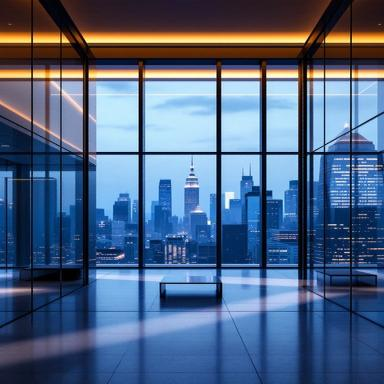glass_panel: (145, 156, 216, 265), (327, 131, 383, 266), (0, 81, 30, 268), (145, 156, 194, 264), (90, 155, 138, 263), (145, 87, 216, 150), (220, 156, 261, 265), (267, 156, 299, 264), (90, 82, 138, 152), (221, 85, 261, 150), (61, 156, 82, 265), (266, 82, 299, 150), (32, 176, 56, 266), (63, 79, 83, 155), (326, 90, 350, 143), (312, 155, 323, 266), (0, 170, 12, 267), (358, 80, 382, 125), (309, 63, 321, 150)
